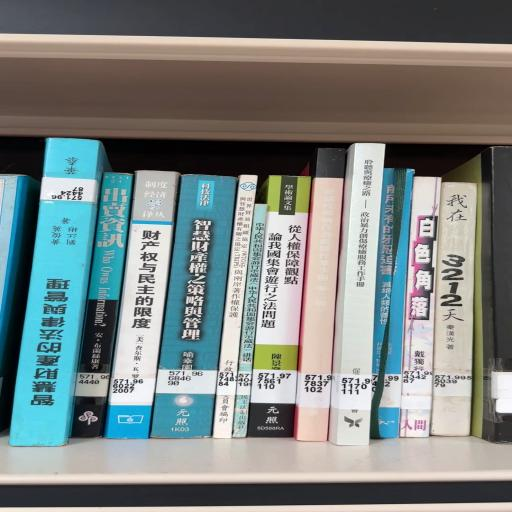reverse: (10, 139, 111, 448)
